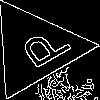P: (10, 23, 74, 77)
